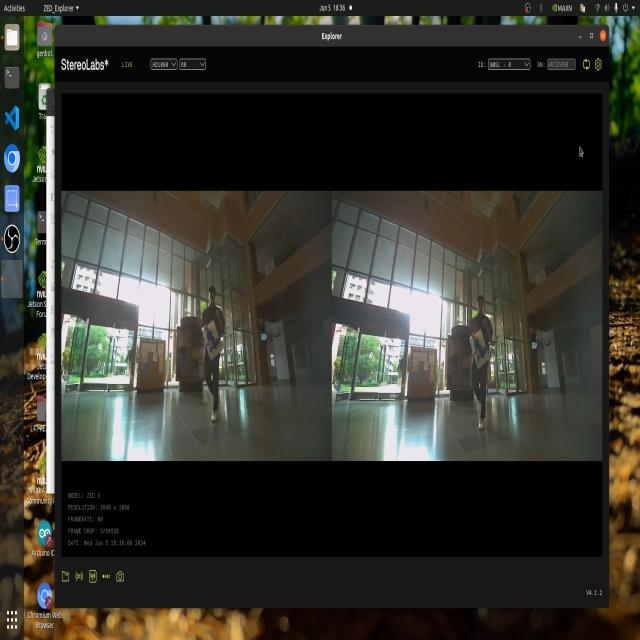blue: (468, 335, 488, 368), (203, 322, 220, 359)
